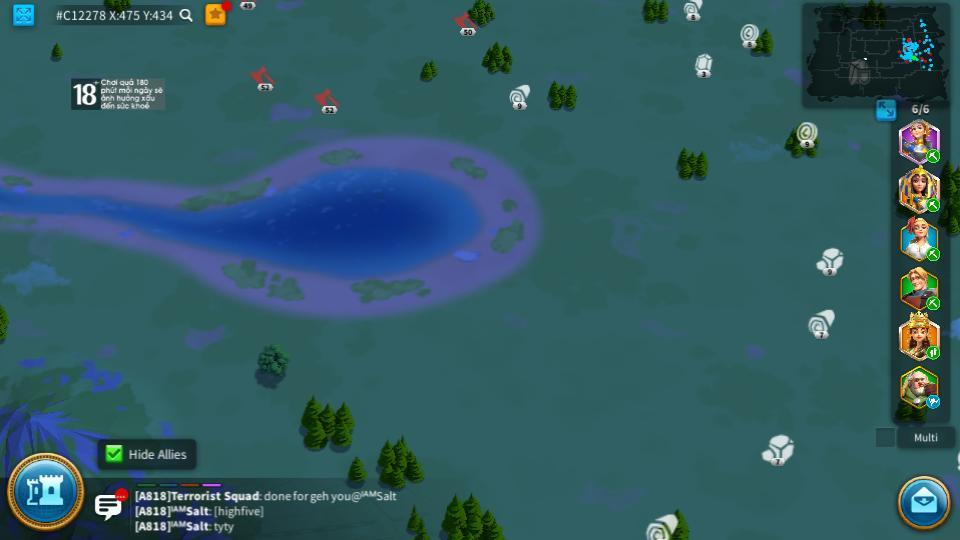gem-z-out: (693, 53, 712, 76)
march_idle: (925, 396, 942, 408)
march_marching: (925, 197, 942, 212), (926, 345, 941, 359), (925, 150, 941, 162), (926, 297, 941, 308), (927, 250, 941, 260)
